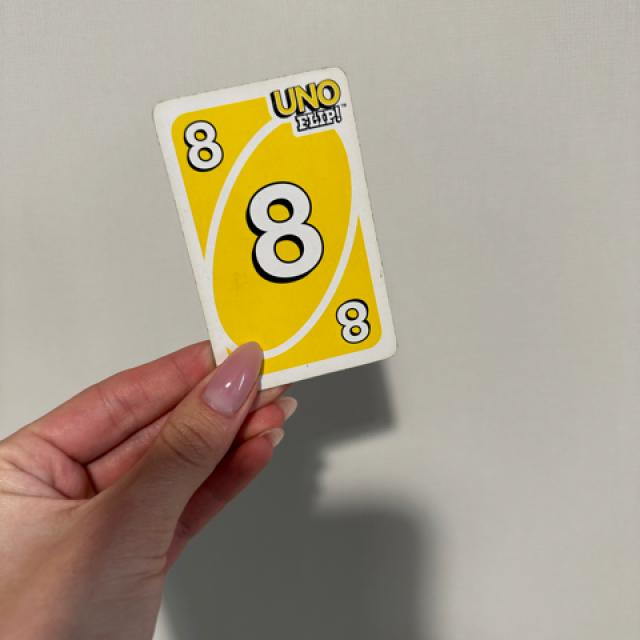lyellow-8: (177, 105, 240, 191)
